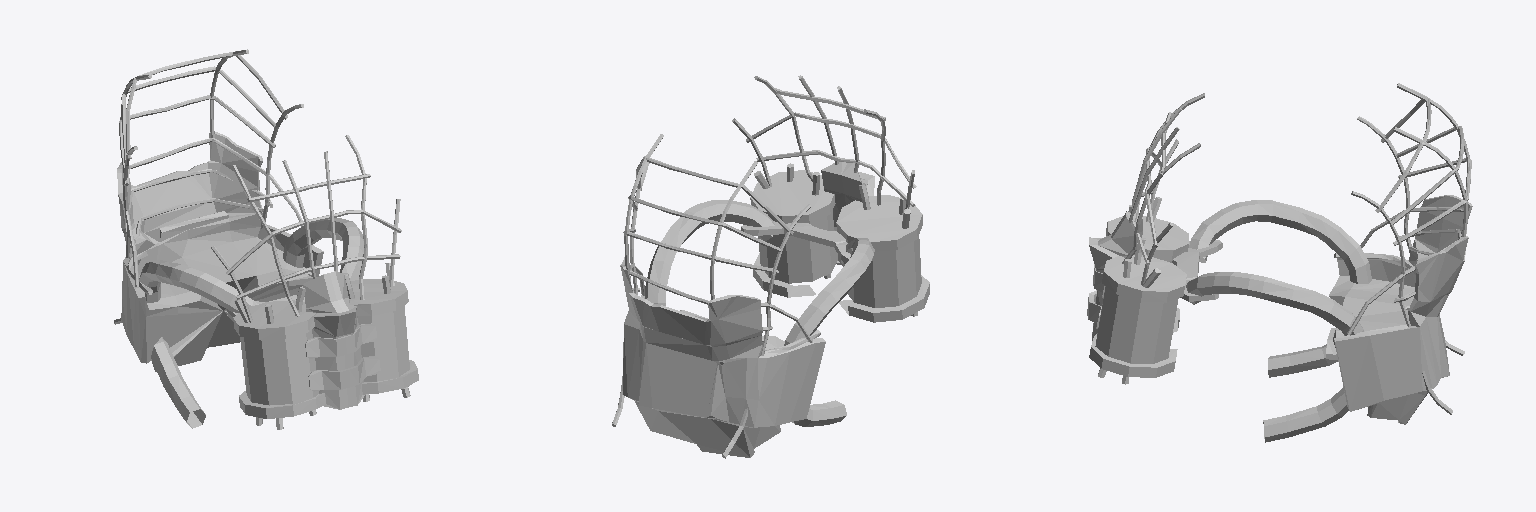
File: PATorso.obj
3 views of the same model, side by side, from view 1: azimuth 30°, elevation 25°; view 2: azimuth 150°, elevation 25°; view 3: azimuth 270°, elevation 25° (orthographic).
Parts seen in each view (by area): view 1: Raider_Body:0; view 2: Raider_Body:0; view 3: Raider_Body:0.
Boxes of the visible parts, box(x1,y1,x2,y2) form: Raider_Body:0: box(114, 49, 418, 429); Raider_Body:0: box(612, 75, 929, 458); Raider_Body:0: box(1087, 83, 1472, 442).
Bounding box in the file's own units: 21.49 × 32.62 × 37.37.